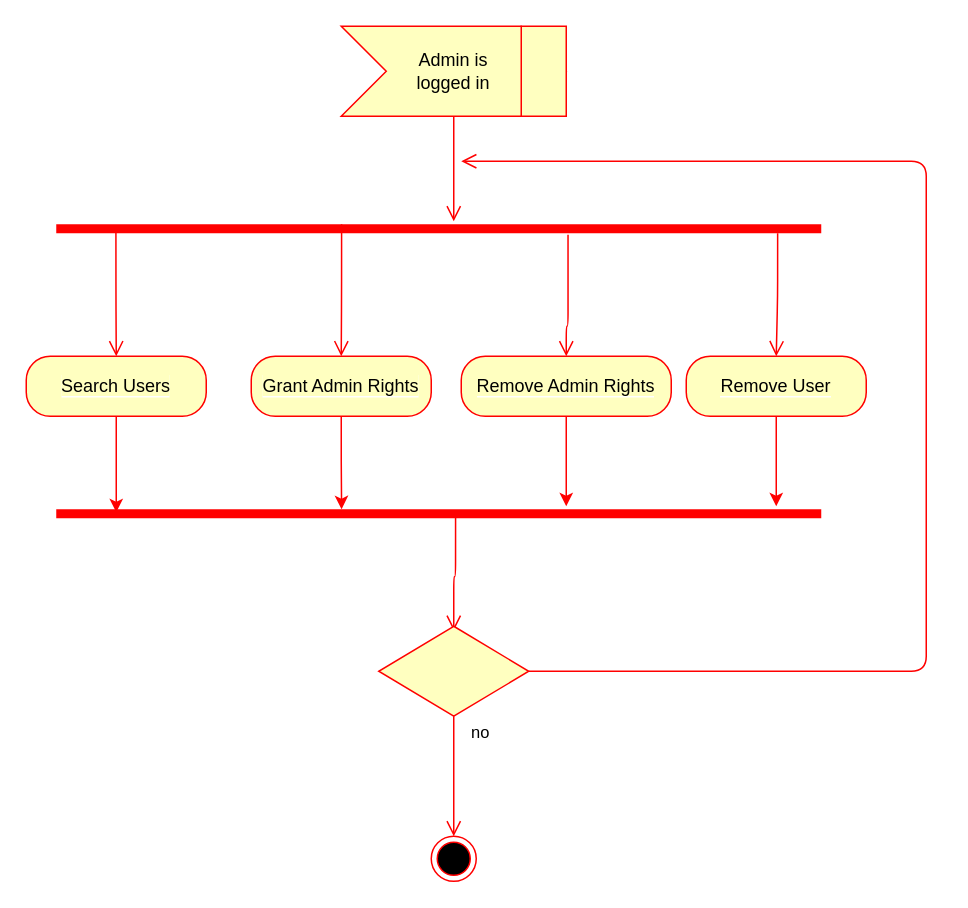
Some shapes in this 968 by 908 pixel diagram are drawn without their labels. The shapes that lost their labels are listed below. From the top down, each one's centre as x and y in pixels, then its label:
point (453, 670): Do more Actions?
point (625, 651): Yes
